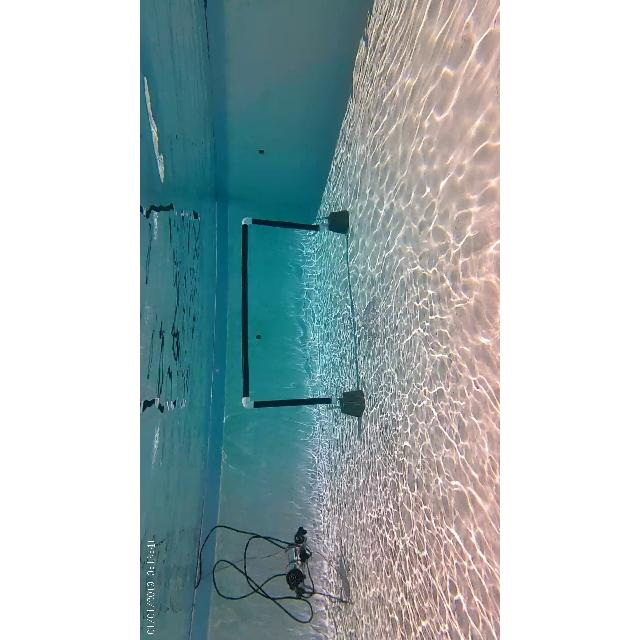prequal gate: (240, 218, 338, 408)
prequal gate leg l: (239, 398, 343, 410)
prequal gate leg r: (239, 212, 335, 238)
